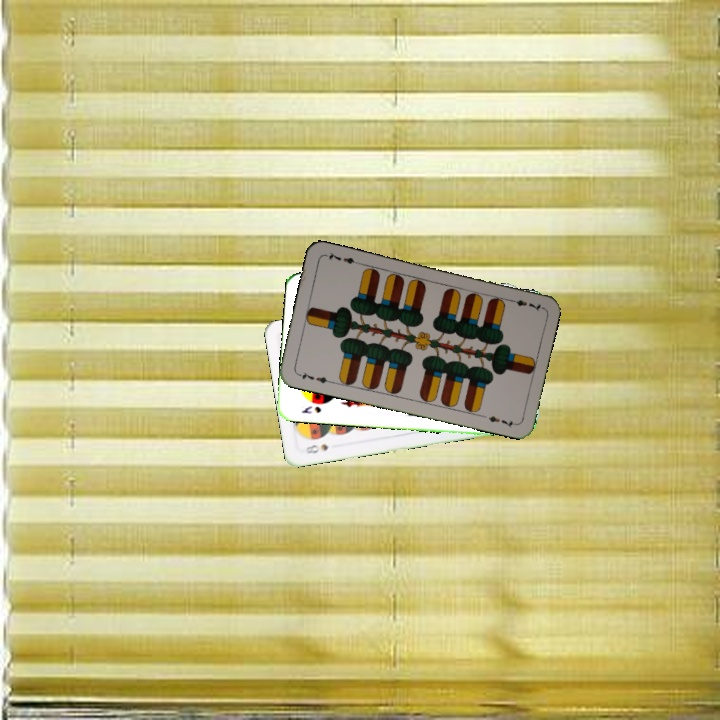E7: (504, 295, 544, 314), (294, 368, 334, 386)
S8: (300, 440, 331, 456)
SK: (297, 402, 324, 416)
